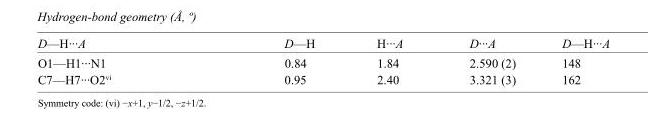table: (36, 36, 609, 85)
table column: (36, 36, 196, 85), (196, 36, 345, 85), (435, 36, 538, 85), (345, 36, 435, 85), (538, 36, 609, 85)
table row: (36, 53, 609, 71), (36, 36, 609, 53), (36, 71, 609, 85)
